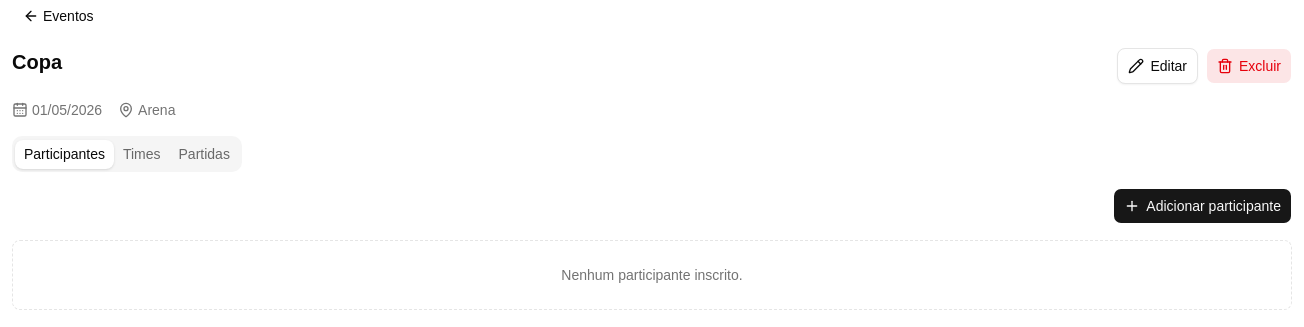
it: EventDetailPage › exige dois times para criar partida
Click the tab "Partidas": (204,154) [170,140,239,168]
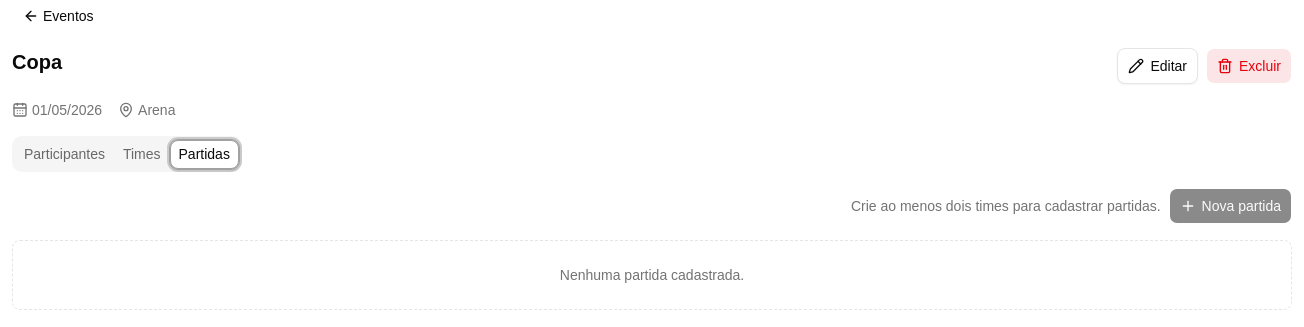
Now the text "Crie ao menos dois times para cadastrar partidas." is shown, box [851,196,1161,216]
Now the button "Nova partida" is disabled, box [1169,188,1292,224]
